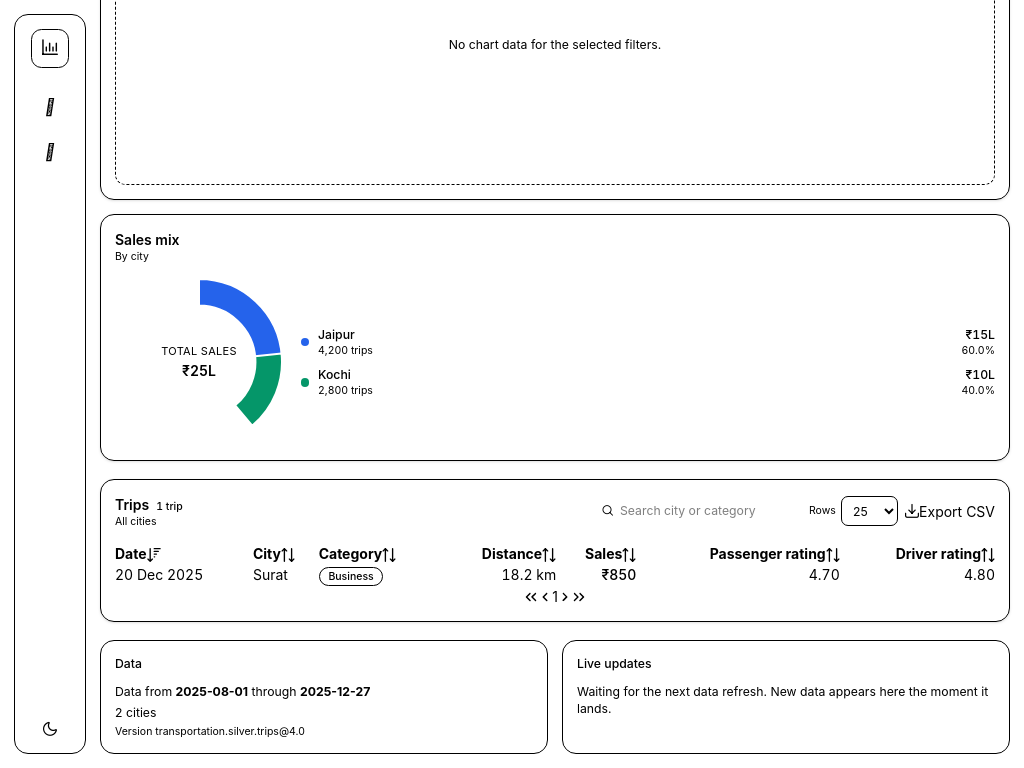
Scenario: dashboard shell and page › exports filtered trips as CSV and shows a success toast
This screenshot has width=1024, height=768.
(page scrolled)
Expected: the text "Business" is shown, left=319, top=567, right=383, bottom=586
Click the button "Export CSV".
click(950, 511)  # box left=905, top=500, right=995, bottom=522
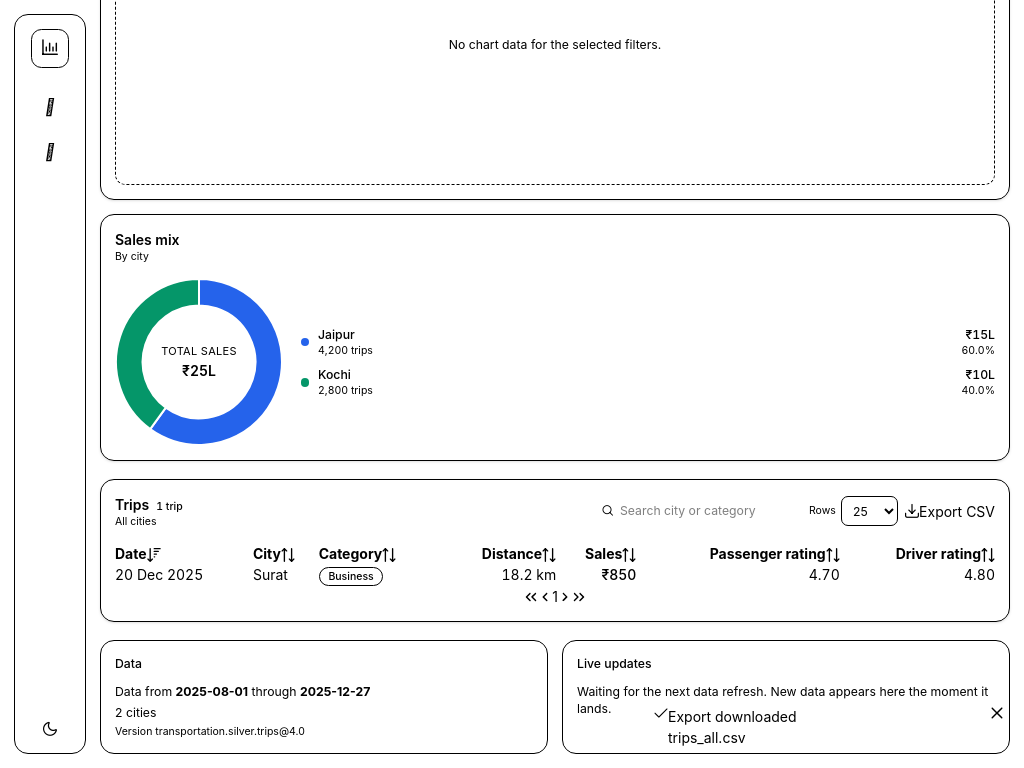
Now the text "Export downloaded" is shown, box left=668, top=708, right=797, bottom=725
Now the text "trips_all.csv" is shown, box left=668, top=729, right=746, bottom=746
